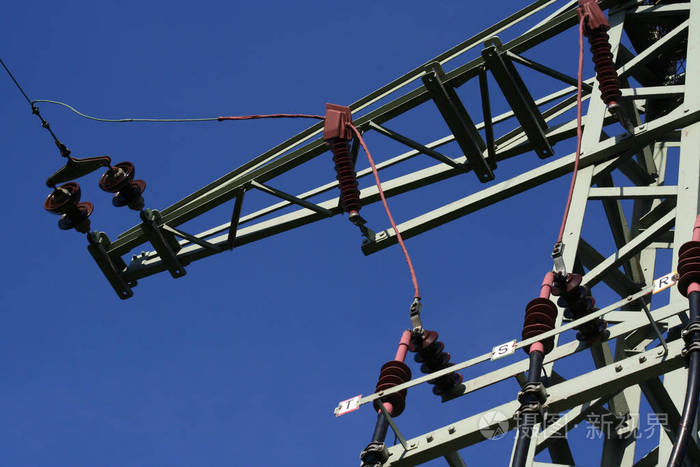insulator: (414, 326, 468, 402), (554, 271, 610, 342), (368, 358, 411, 415), (522, 295, 556, 353), (677, 239, 700, 282)
